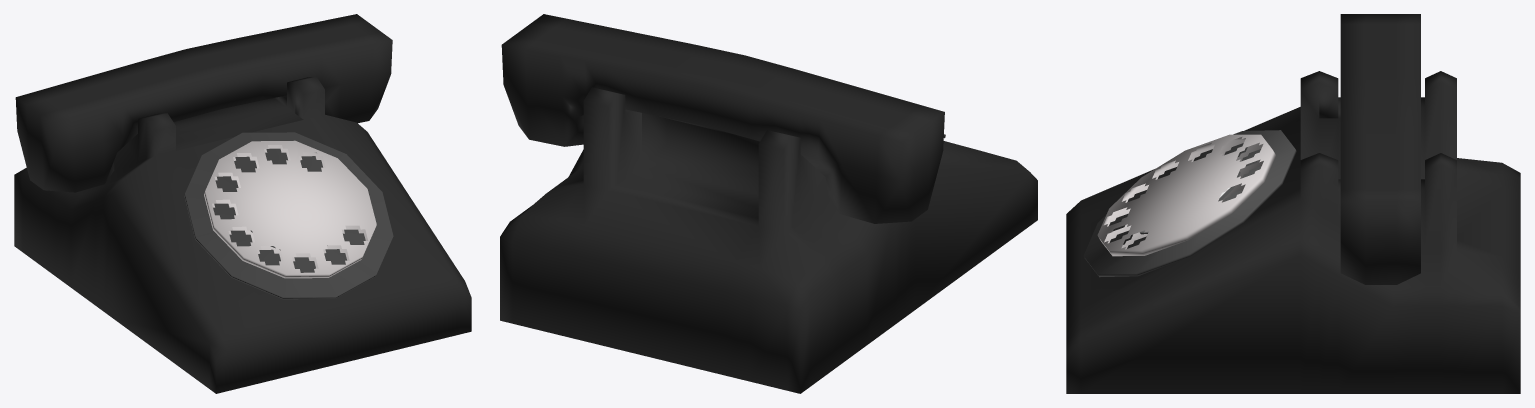
The picture shows the model from 3 angles, left to right: view 1: azimuth 30°, elevation 25°; view 2: azimuth 150°, elevation 25°; view 3: azimuth 270°, elevation 25°; orthographic projection. The views are drawn at different scales.
Visible parts, largest first — view 1: base, phone, dial, baseofdial; view 2: base, phone; view 3: base, phone, dial, baseofdial.
Part boxes in pixels (left/top/right/bottom): base: left=14, top=76, right=471, bottom=393; phone: left=15, top=14, right=392, bottom=192; dial: left=204, top=140, right=376, bottom=278; baseofdial: left=184, top=132, right=393, bottom=299; base: left=500, top=87, right=1037, bottom=393; phone: left=501, top=14, right=944, bottom=223; base: left=1066, top=71, right=1520, bottom=393; phone: left=1340, top=14, right=1420, bottom=284; dial: left=1097, top=134, right=1275, bottom=256; baseofdial: left=1083, top=130, right=1296, bottom=277.
Bounding box in the file's own units: 0.7931 × 0.4406 × 0.8125.
Materials: 1 (1 with a texture image).
